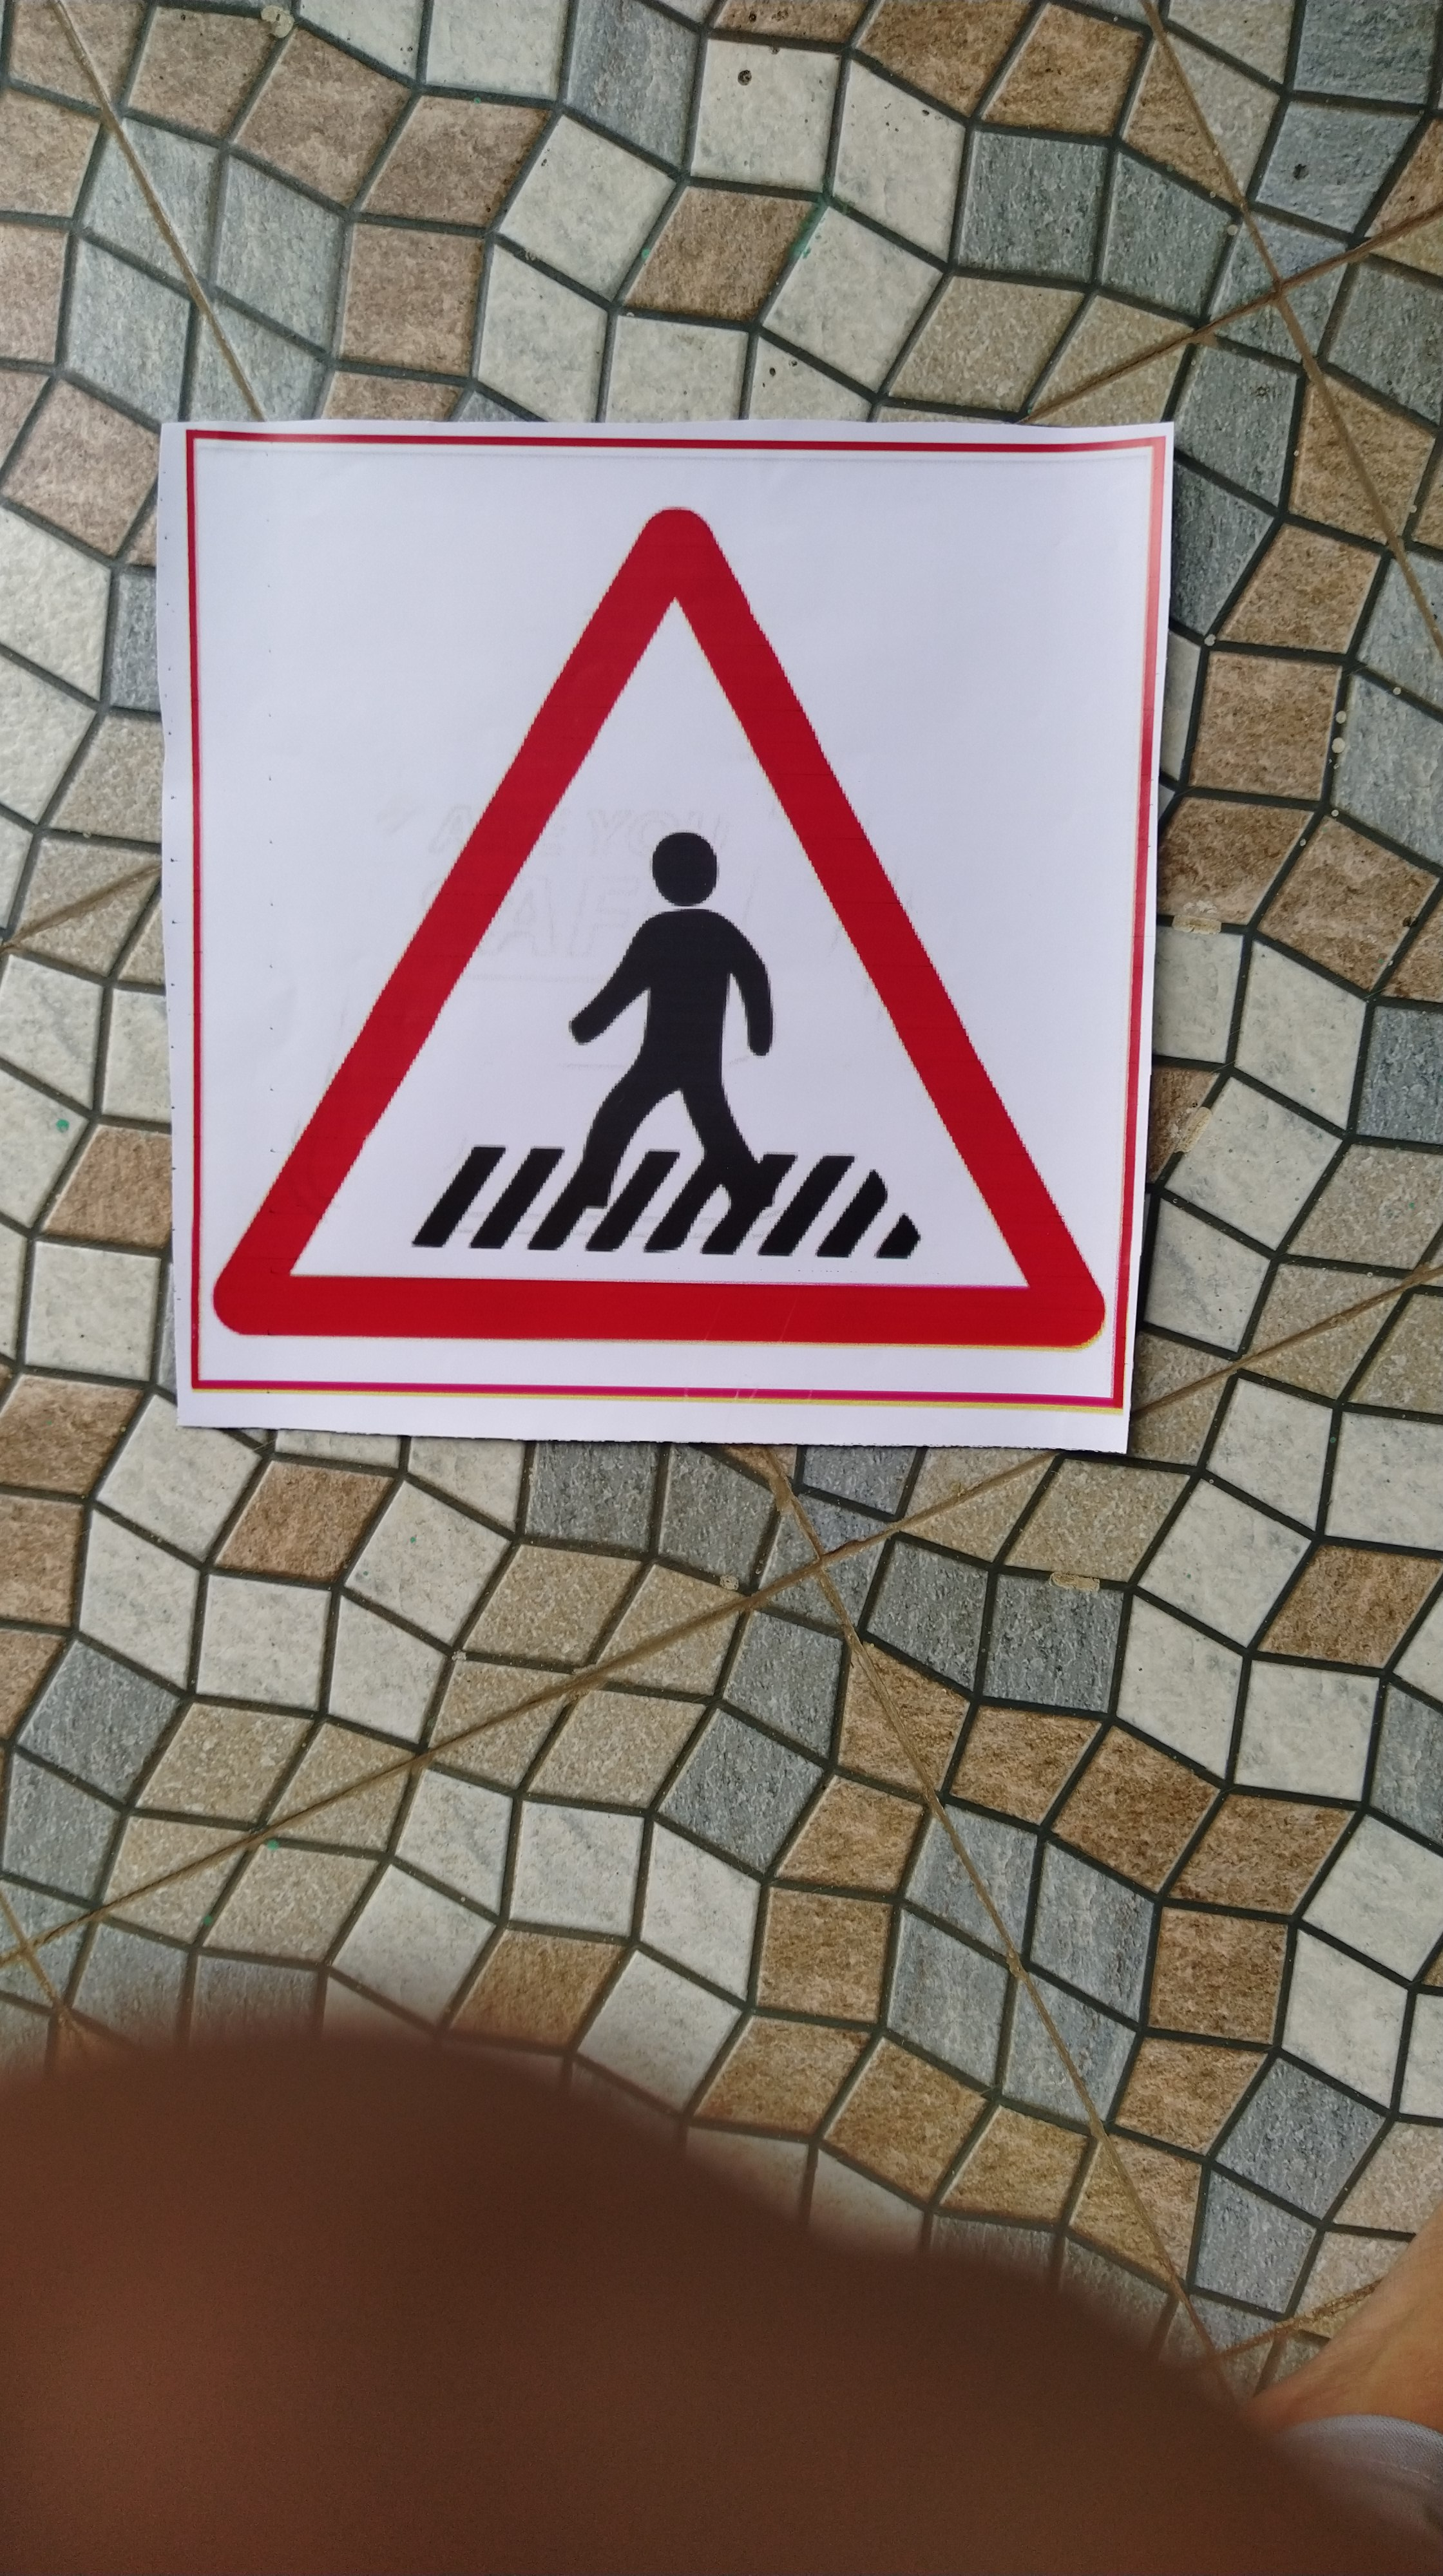pedestrain crossing: (211, 464, 1112, 1405)
